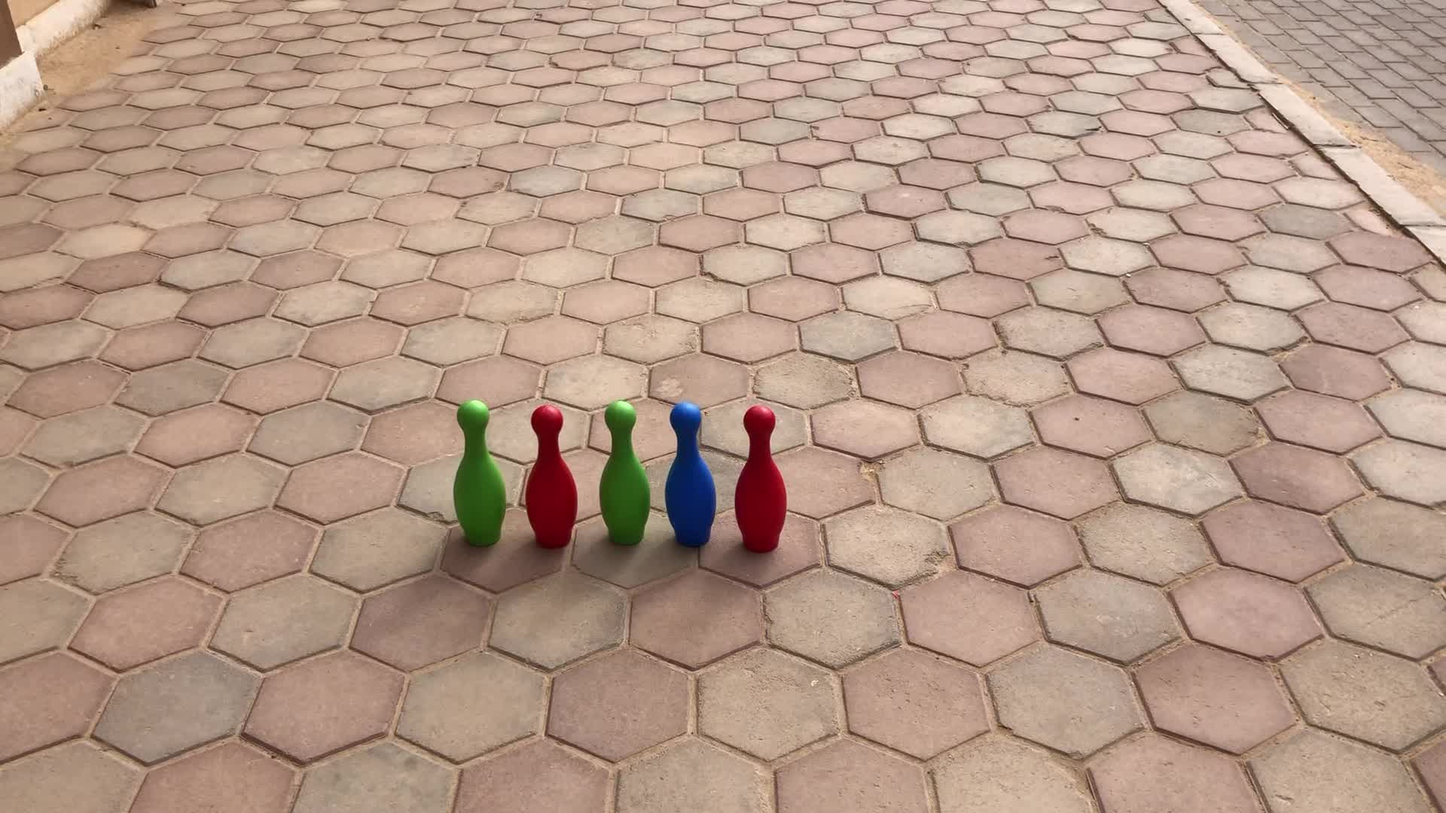bowling-pin: (453, 400, 506, 547), (666, 402, 717, 549), (735, 405, 786, 552), (526, 405, 578, 549), (600, 400, 651, 546)
